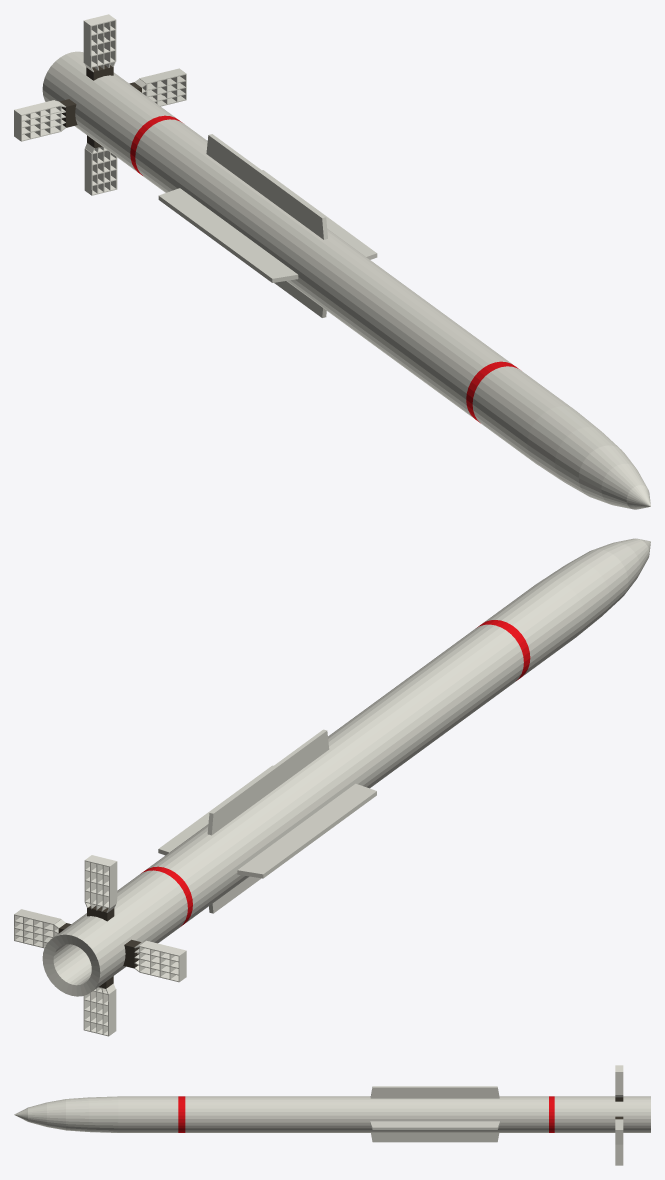
File: missile_5_body.fbx
The picture shows the model from 3 angles, top to bottom: view 1: azimuth 30°, elevation 25°; view 2: azimuth 150°, elevation 25°; view 3: azimuth 270°, elevation 25°; orthographic projection. The views are drawn at different scales.
Parts seen in each view (by area): view 1: Cylinder; view 2: Cylinder; view 3: Cylinder.
Boxes of the visible parts, x1,y1,x2,y2 form: Cylinder: [14, 14, 650, 509]; Cylinder: [14, 538, 650, 1036]; Cylinder: [14, 1065, 650, 1165].
Size of the model in its own units: 122 by 120 by 737.
